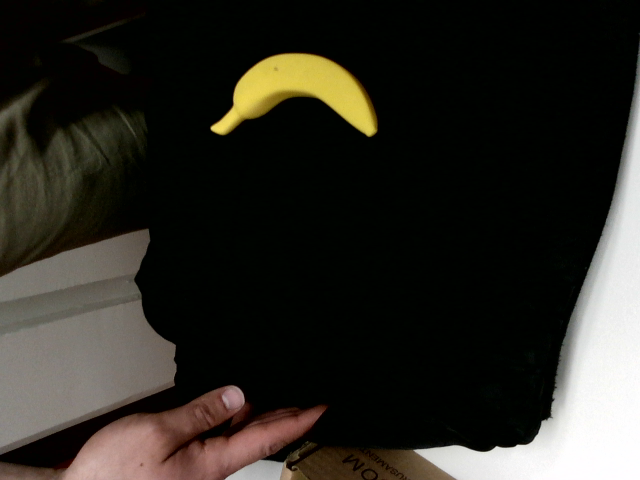banana: (211, 53, 376, 136)
